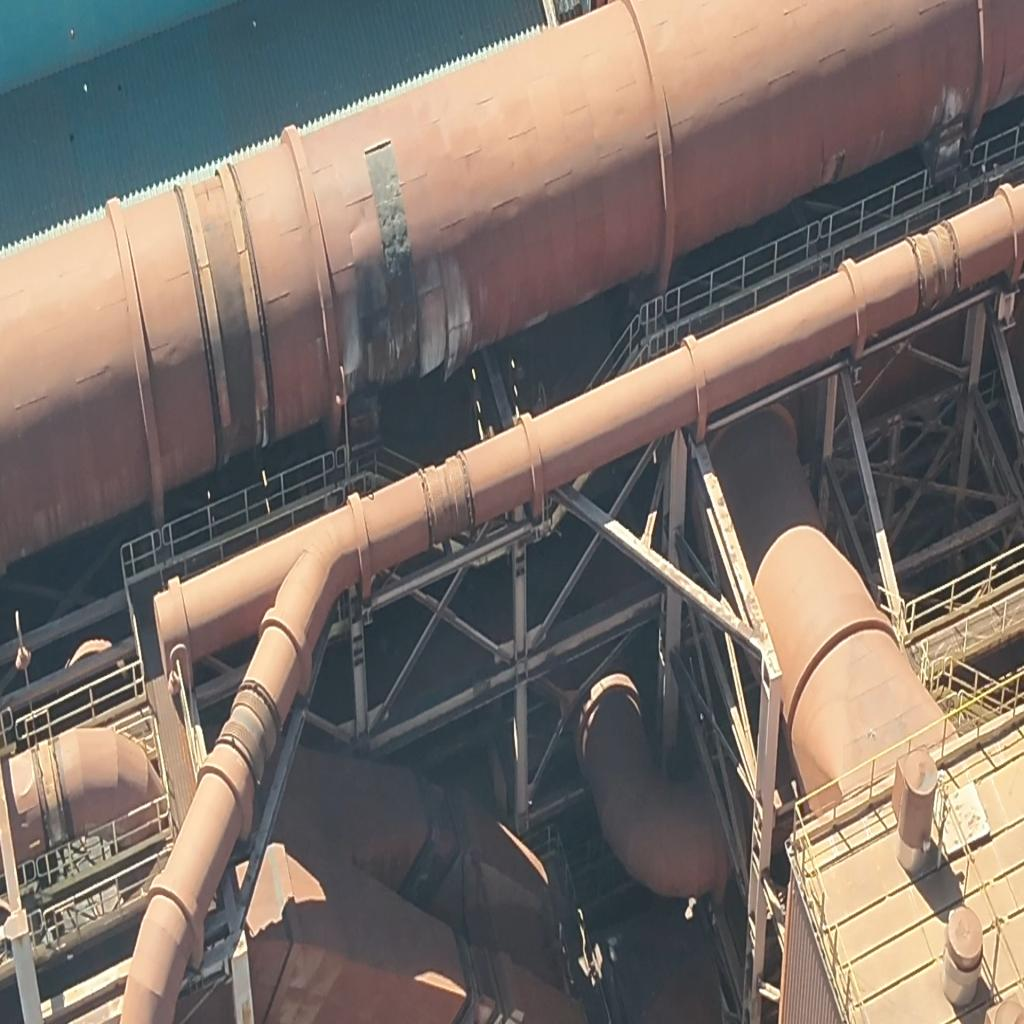Failures: (366, 141, 424, 374)
